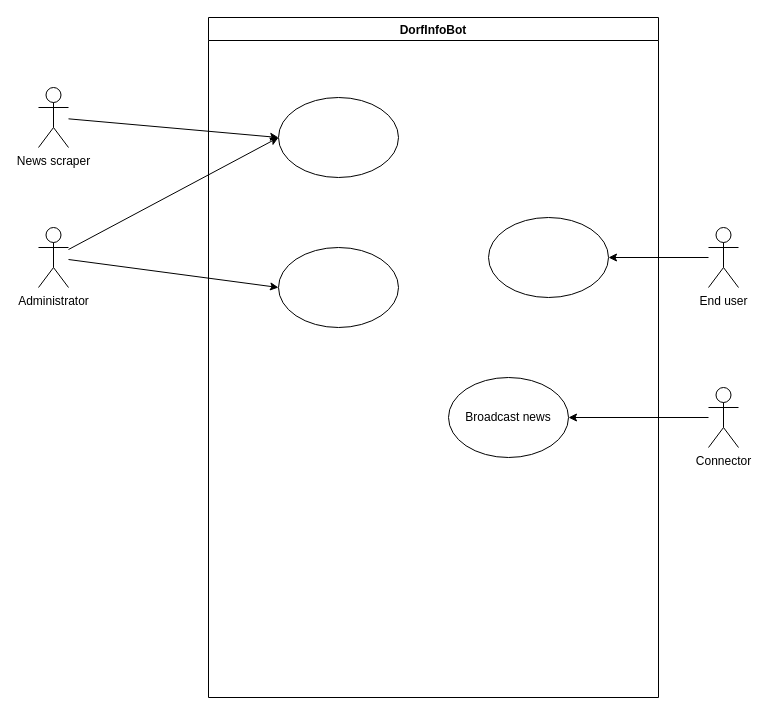
This 768x715 diagram has some shape labels left out. The centre of each missing label's shape, as x and y in pixels:
Add channels: the point at 338,287
Add news (with attachments): the point at 338,137
Read news on a channel: the point at 548,257
